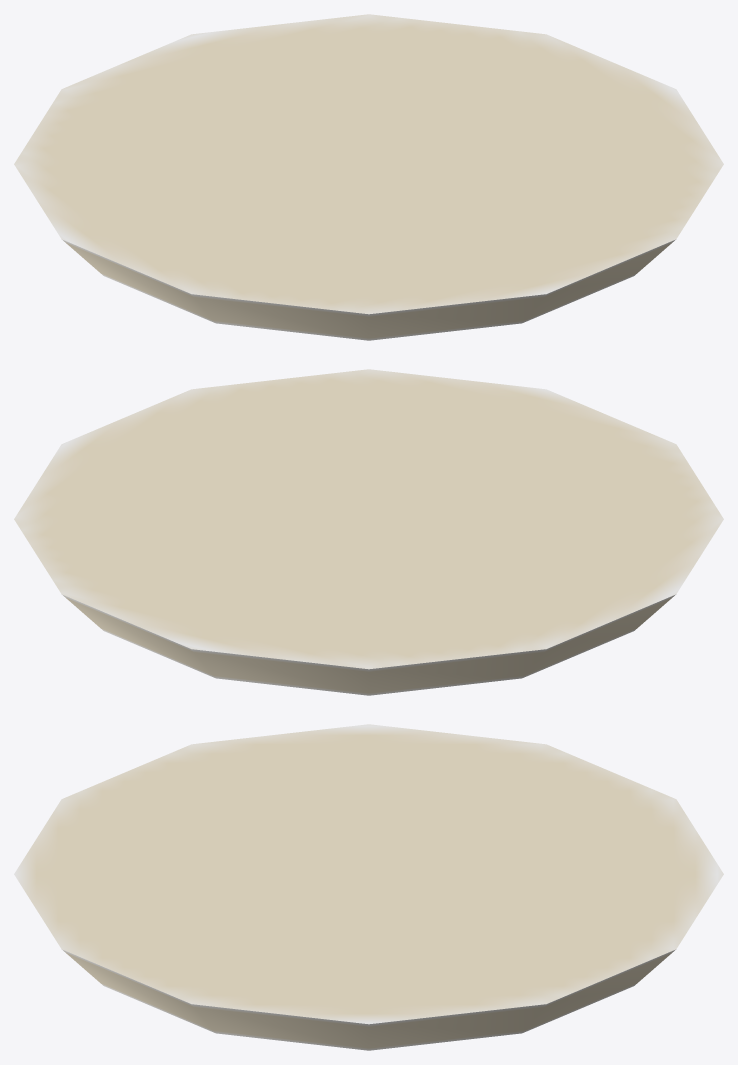
Rendered from Ceiling_parts_02_01.fbx.
The picture shows the model from 3 angles, top to bottom: view 1: azimuth 30°, elevation 25°; view 2: azimuth 150°, elevation 25°; view 3: azimuth 270°, elevation 25°; orthographic projection.
Visible parts, largest first — view 1: ceiling_parts_02_01; view 2: ceiling_parts_02_01; view 3: ceiling_parts_02_01.
Part boxes in pixels (<box>): ceiling_parts_02_01: <box>14,14,723,340</box>; ceiling_parts_02_01: <box>14,369,723,695</box>; ceiling_parts_02_01: <box>14,724,723,1050</box>.
Bounding box in the file's own units: 25.5 × 1.86 × 25.5.
